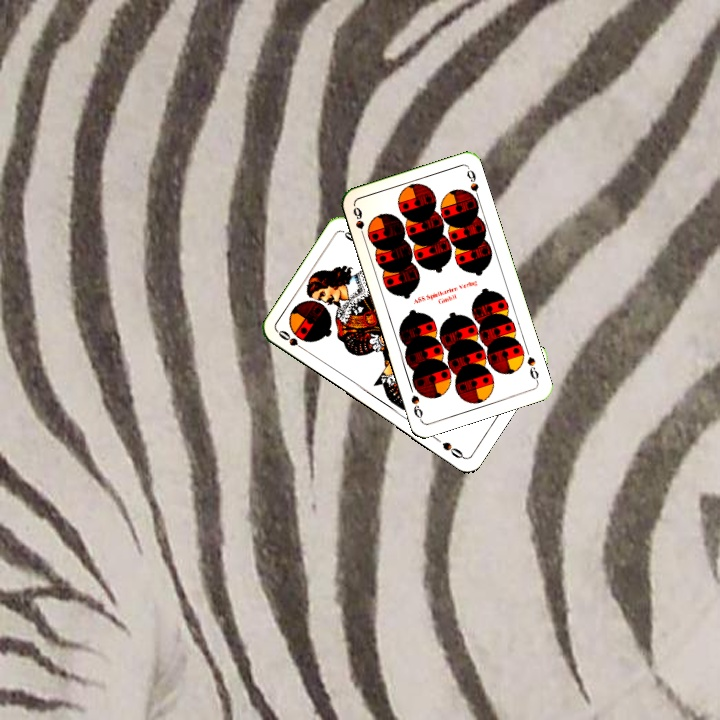S9: (349, 203, 368, 242), (523, 353, 541, 385)
SO: (274, 326, 310, 354)
